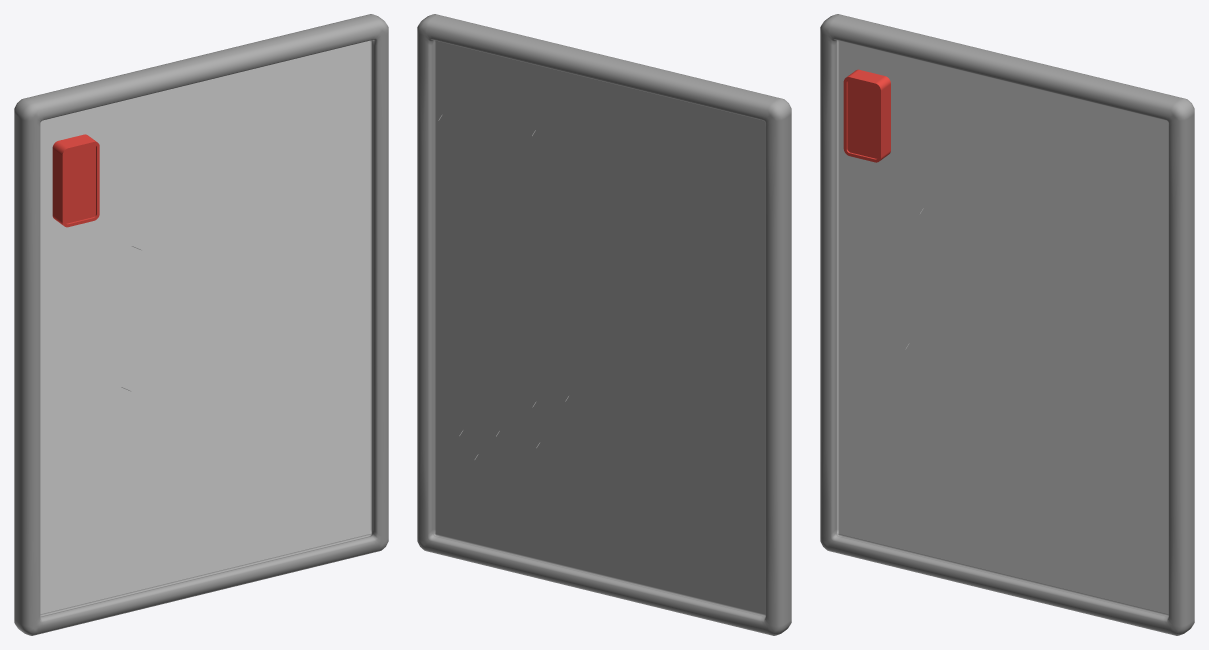
The model's file is Whiteboard2.FBX.
The picture shows the model from 3 angles, left to right: view 1: azimuth 30°, elevation 25°; view 2: azimuth 150°, elevation 25°; view 3: azimuth 330°, elevation 25°; orthographic projection.
Parts seen in each view (by area): view 1: Corck_Board, Куб; view 2: Corck_Board; view 3: Corck_Board, Куб.
Part boxes in pixels (x1,y1,x2,y2): Corck_Board: [14, 14, 388, 635]; Куб: [52, 134, 99, 227]; Corck_Board: [417, 14, 791, 635]; Corck_Board: [820, 14, 1194, 635]; Куб: [843, 69, 890, 162].
Bounding box in the file's own units: 21.64 × 30 × 4.38.
